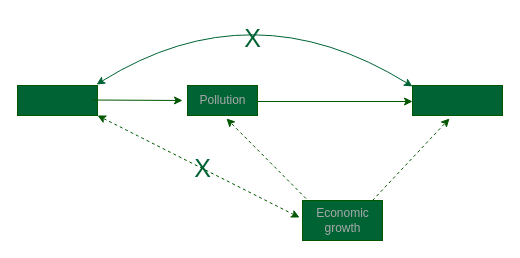
Some shapes in this 520 by 258 pixel diagram are drawn without their labels. Here are the shapes that lost their labels. From the top down, the box of each, then its label:
(16, 84, 98, 116): Instrument
(412, 84, 502, 116): Productivity
